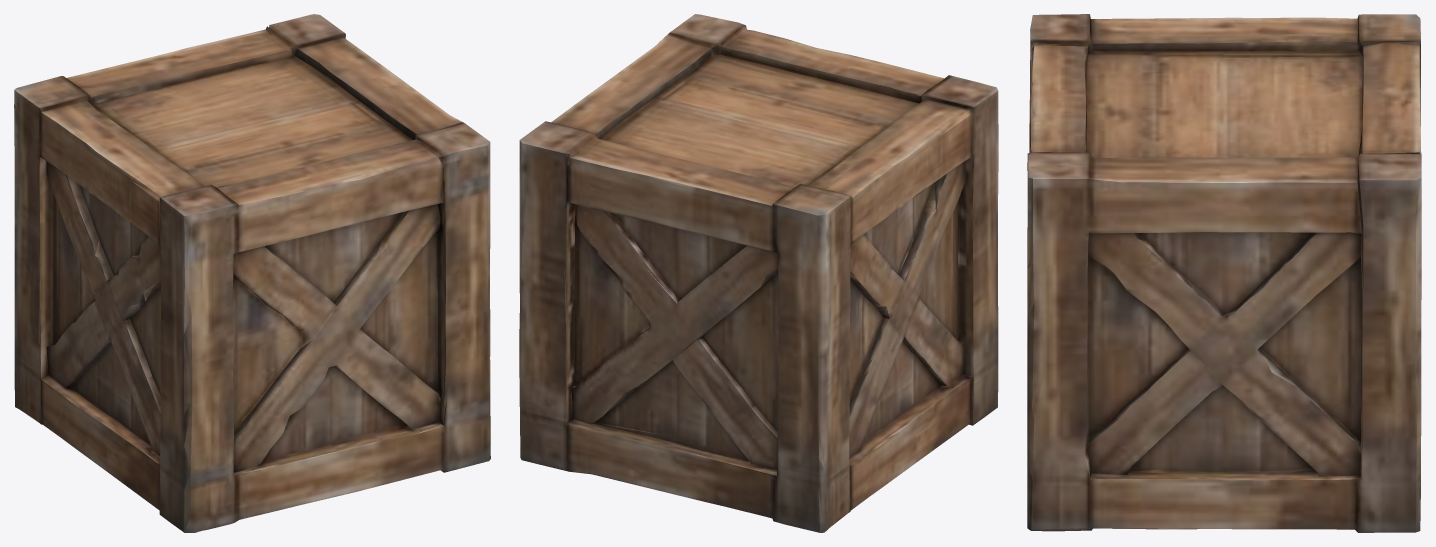
The model's file is cargo_wooden_crate_cube.glb.
3 renders of one model, left to right at view 1: azimuth 30°, elevation 25°; view 2: azimuth 150°, elevation 25°; view 3: azimuth 270°, elevation 25°, orthographic. The views are drawn at different scales.
Visible parts, largest first — view 1: turn; view 2: turn; view 3: turn.
Boxes of the visible parts, <box> form: turn: <box>14,14,490,532</box>; turn: <box>519,14,998,532</box>; turn: <box>1027,14,1421,532</box>.
Bounding box in the file's own units: 1.21 × 1.2 × 1.21.
1 material, 1 textured.
